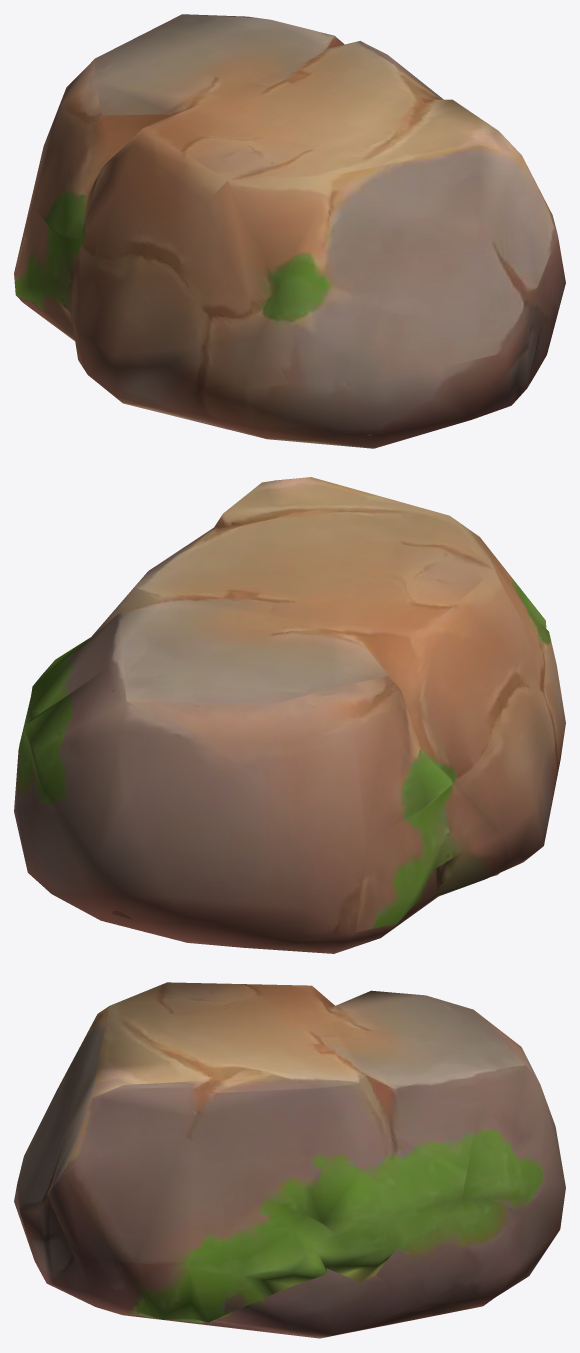
Rendered from rock_large.glb.
The picture shows the model from 3 angles, top to bottom: view 1: azimuth 30°, elevation 25°; view 2: azimuth 150°, elevation 25°; view 3: azimuth 270°, elevation 25°; orthographic projection. The views are drawn at different scales.
Parts seen in each view (by area): view 1: geometry_0; view 2: geometry_0; view 3: geometry_0.
Part boxes in pixels (left/top/right/bottom): geometry_0: left=14, top=14, right=565, bottom=448; geometry_0: left=14, top=477, right=565, bottom=953; geometry_0: left=14, top=982, right=565, bottom=1338.
Size of the model in its own units: 3.24 by 1.8 by 4.
Materials: 1 (1 with a texture image).
